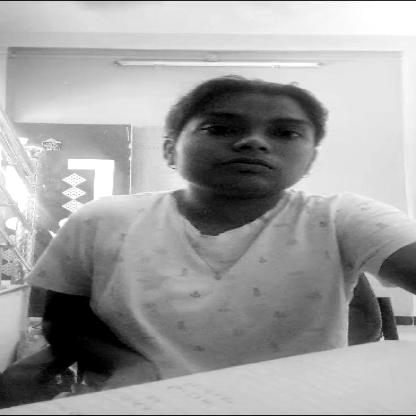Normal: (173, 82, 320, 192)
